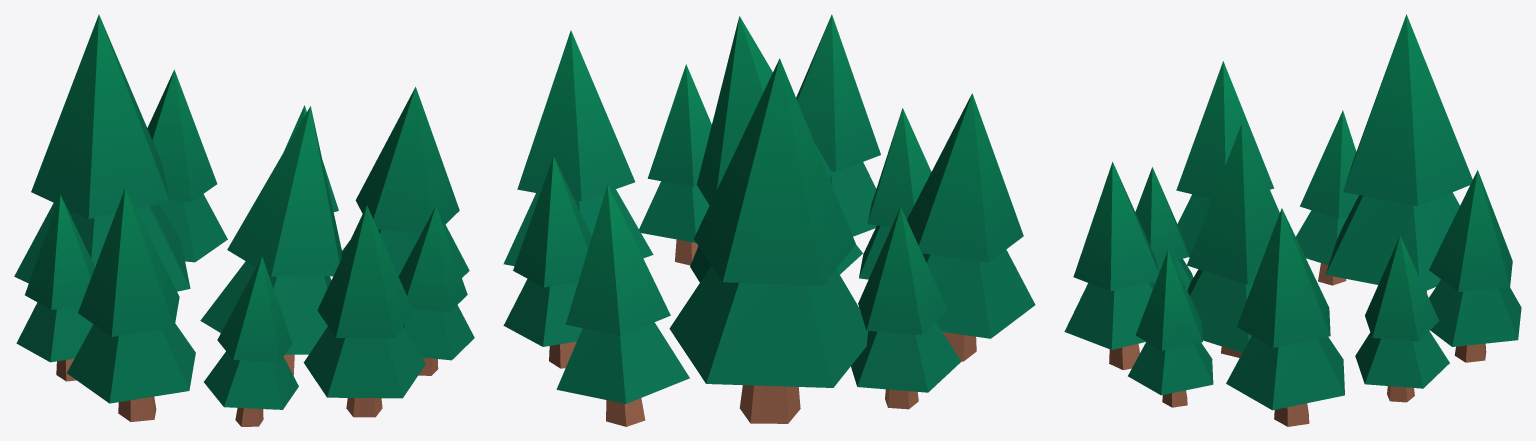
The model's file is hex_trees_a_medium.glb.
The picture shows the model from 3 angles, left to right: view 1: azimuth 30°, elevation 25°; view 2: azimuth 150°, elevation 25°; view 3: azimuth 270°, elevation 25°; orthographic projection. The views are drawn at different scales.
Visible parts, largest first — view 1: hex_trees_a_medium; view 2: hex_trees_a_medium; view 3: hex_trees_a_medium.
Boxes of the visible parts, x1,y1,x2,y2 form: hex_trees_a_medium: [14, 14, 474, 426]; hex_trees_a_medium: [503, 14, 1035, 426]; hex_trees_a_medium: [1064, 14, 1521, 426].
Bounding box in the file's own units: 0.8757 × 0.6477 × 0.9071.
Materials: 1 (1 with a texture image).
